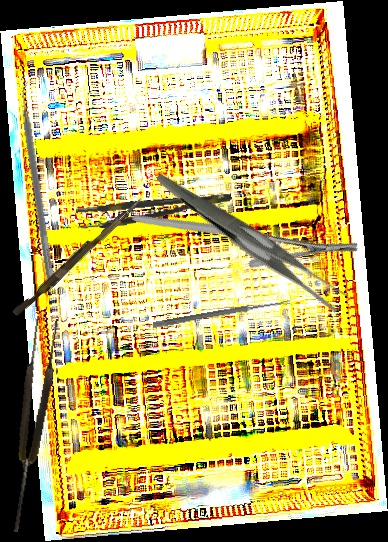Dressing Forceps: (156, 128, 351, 350)
Needle Holder: (131, 147, 362, 318)
Pusher: (11, 191, 145, 321)
Spatula Surgical: (15, 80, 62, 280)
Surgical Spoon: (152, 297, 291, 330)
Tissue Forceps: (1, 315, 62, 534), (75, 191, 234, 231)
